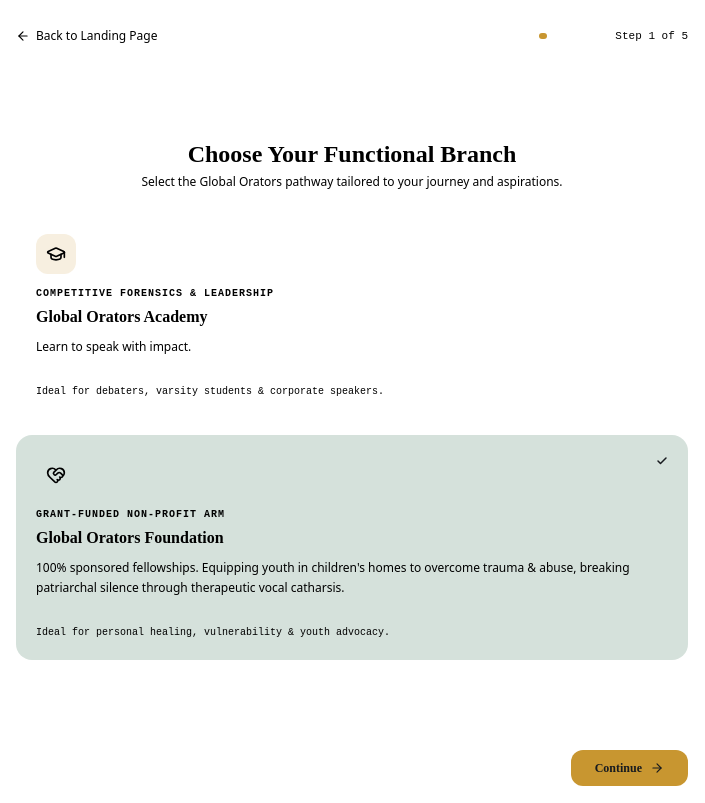
Test case: Global Orators Landing Page & Features Tests › should render dynamic Step 3 Personal Baseline adapted for Foundation Escapism & Catharsis by default
Click the button "Continue" at (629,768), box [571,750,688,786]
(page scrolled)
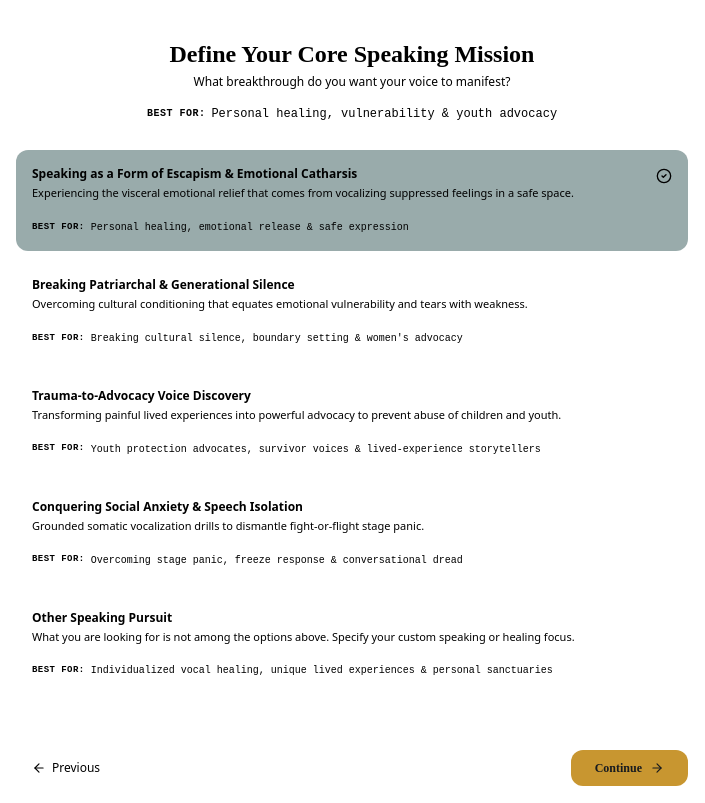
Expected: the text "Speaking as a Form of Escapism & Emotional Catharsis" is shown, [32,165,357,182]
# Navigate from Step 2 to Step 3
Click the button "Continue" at (629,768), box [571,750,688,786]
(page scrolled)
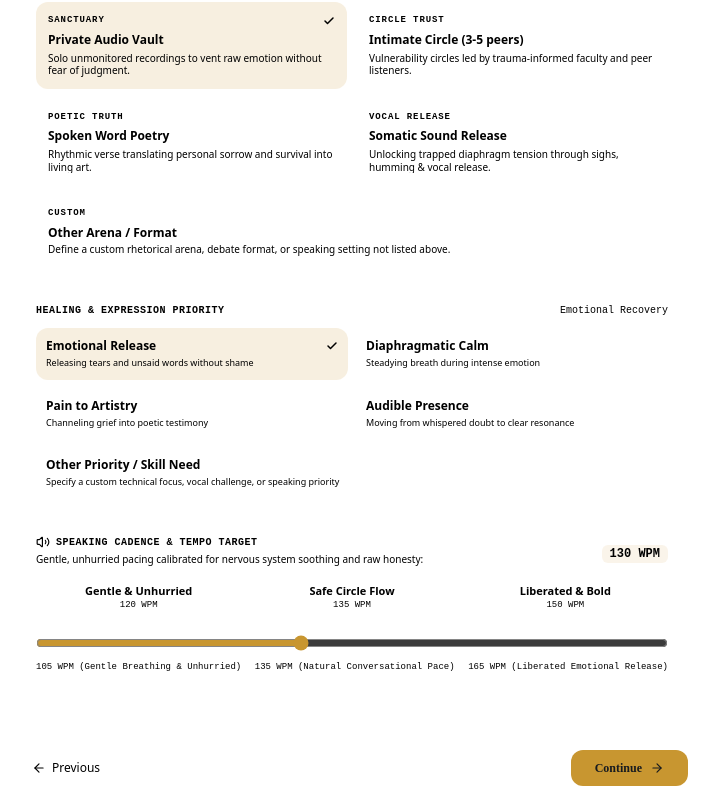
Expected: the text "Private Audio Vault" is shown, [48,30,164,48]
Expected: the text "Healing & Expression Priority" is shown, [36,303,224,318]
Expected: the text "Emotional Release" is shown, [46,338,156,354]
